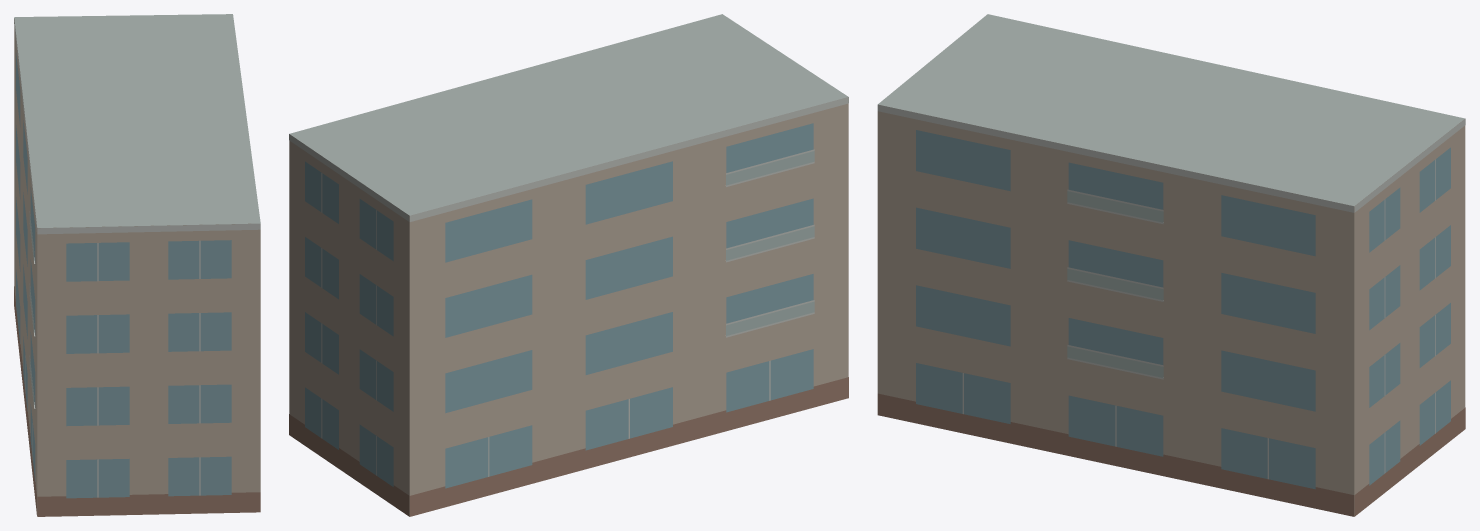
Rendered from survey-upis-33028243.glb.
3 renders of one model, left to right at view 1: azimuth 30°, elevation 25°; view 2: azimuth 150°, elevation 25°; view 3: azimuth 270°, elevation 25°, orthographic. The views are drawn at different scales.
Visible parts, largest first — view 1: survey-upis-33028243.tmp; view 2: survey-upis-33028243.tmp; view 3: survey-upis-33028243.tmp.
Boxes of the visible parts, x1,y1,x2,y2 form: survey-upis-33028243.tmp: (14, 14, 260, 516); survey-upis-33028243.tmp: (289, 14, 848, 516); survey-upis-33028243.tmp: (877, 14, 1465, 516).
Size of the model in its own units: 15.01 by 11.3 by 19.39.
